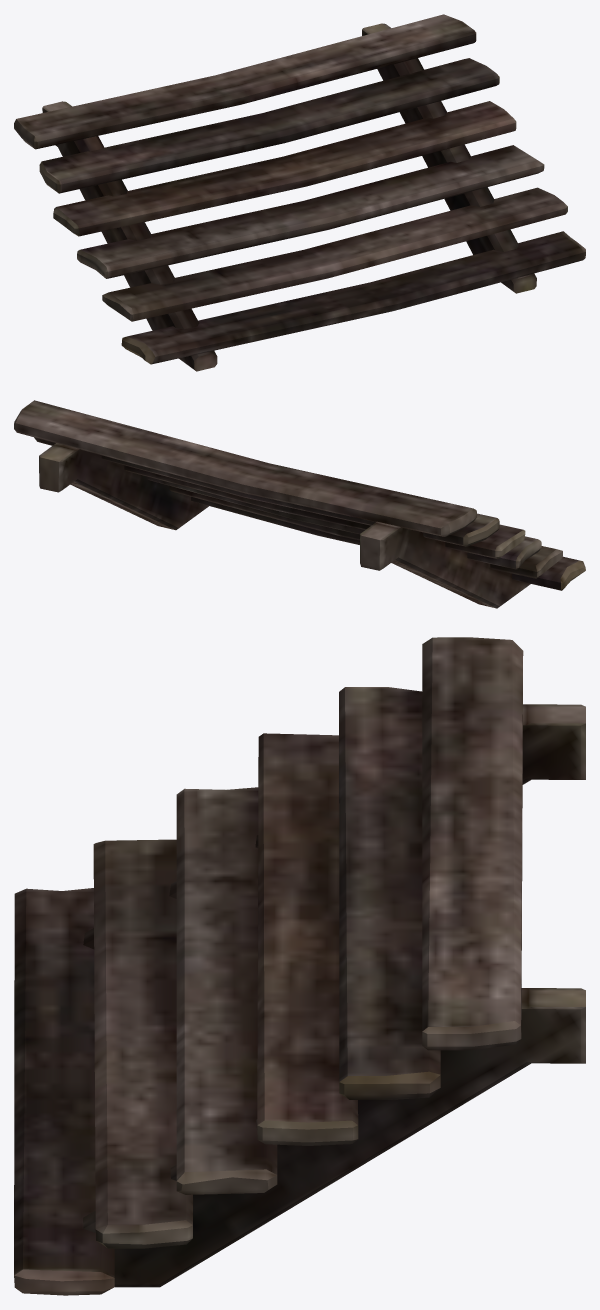
File: SM_Stairs_01_9d8ff9.glb
3 renders of one model, top to bottom at view 1: azimuth 30°, elevation 25°; view 2: azimuth 150°, elevation 25°; view 3: azimuth 270°, elevation 25°, orthographic. The views are drawn at different scales.
Bounding box in the file's own units: 3.36 × 1.2 × 2.04.
1 material, 1 textured.
